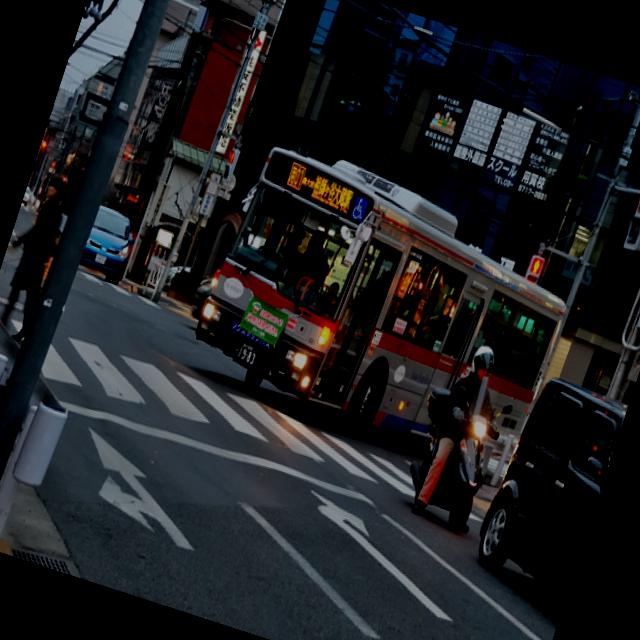Vehicle: (172, 128, 590, 490), (455, 368, 630, 634), (392, 376, 516, 538), (77, 205, 141, 285), (22, 186, 32, 205)
